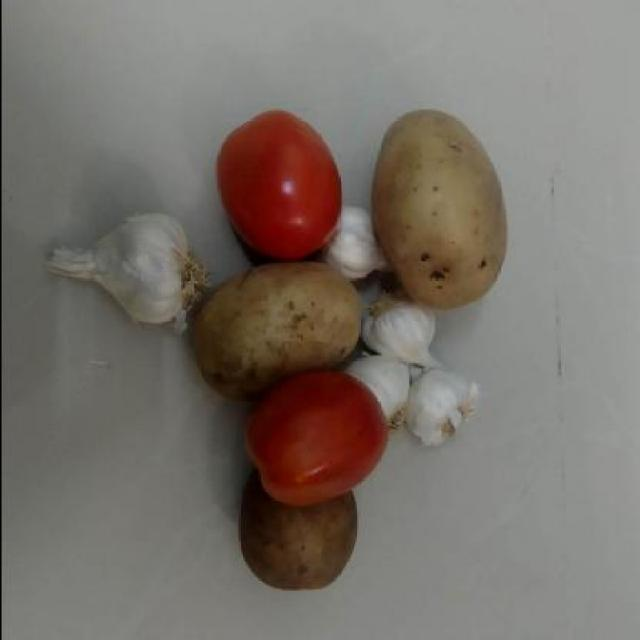Garlic: (37, 219, 200, 326), (403, 368, 483, 448), (354, 296, 431, 370)
Potato: (371, 100, 512, 314), (192, 257, 352, 408), (242, 495, 362, 608)
Tomato: (211, 98, 346, 264), (248, 368, 392, 509)
